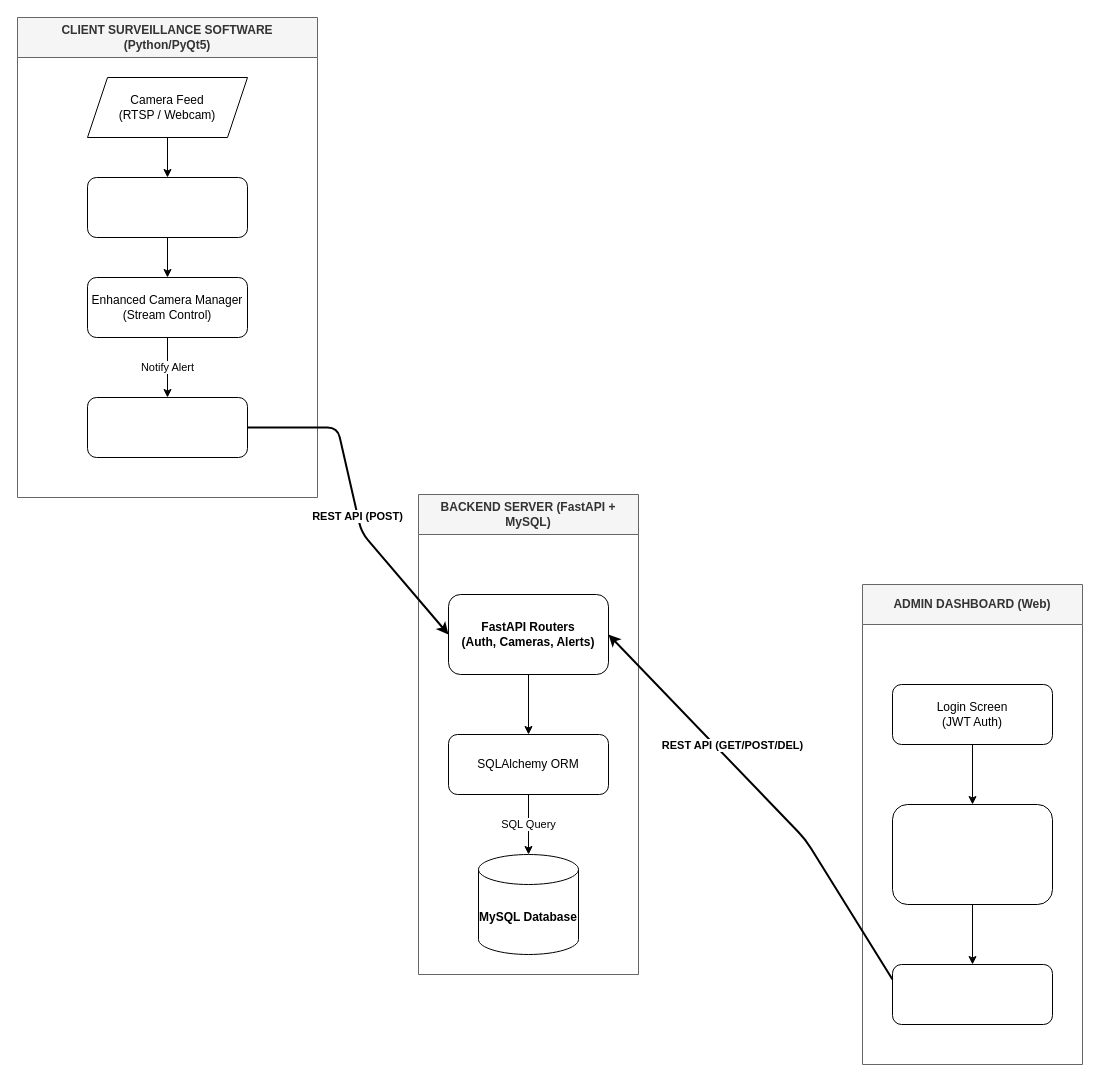
Some shapes in this 1100 by 1082 pixel diagram are drawn without their labels. The centre of each missing label's shape, as x and y in pixels:
Admin Panel UI (Users, Cameras, Alerts): the point at 972,854
App.js (fetch calls): the point at 972,994
Backend Client (API Integrator): the point at 167,427
Detection Engine (YOLO Fire/Smoke): the point at 167,207
